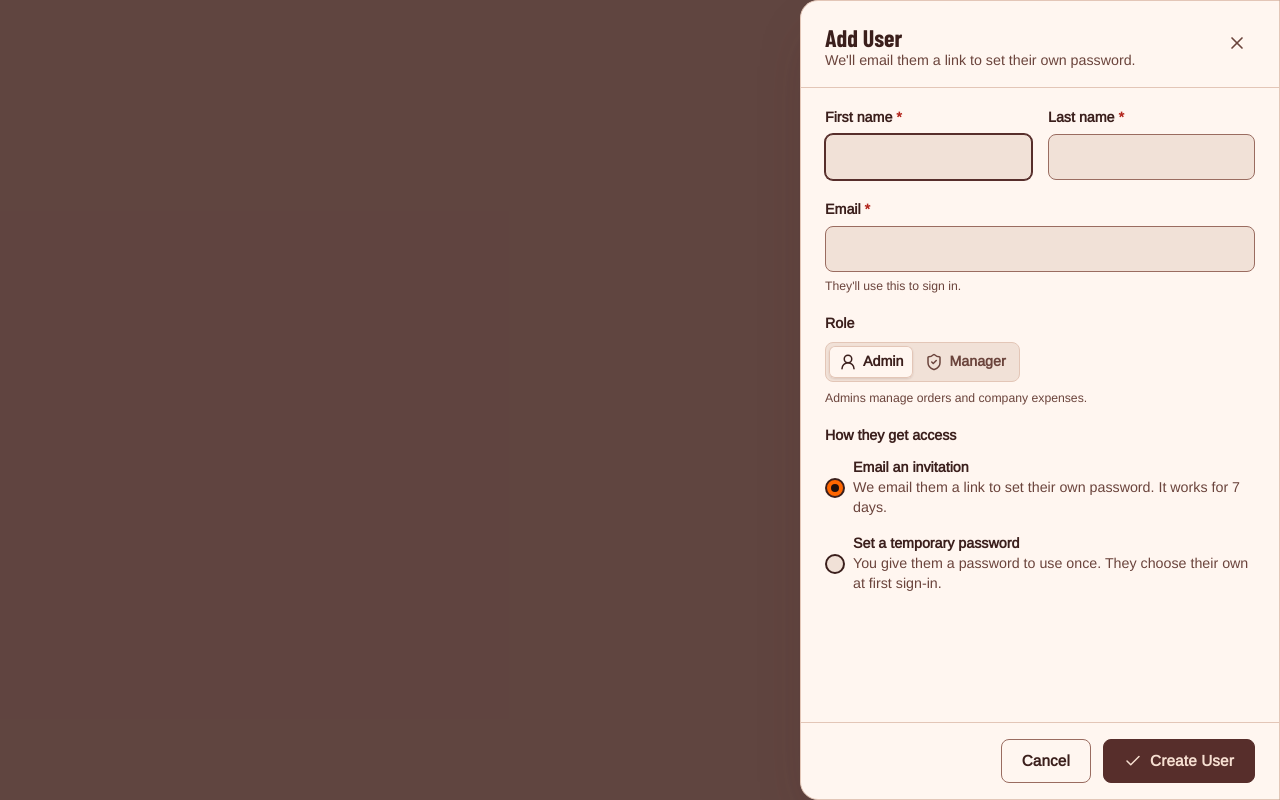
Scenario: U2 checks before sending (OR-3) › refuses an address that is not shaped like an email, before any request
Type "Ana" into the field labelled "First name *". click: (928, 157)
box: [826,135,1031,179]
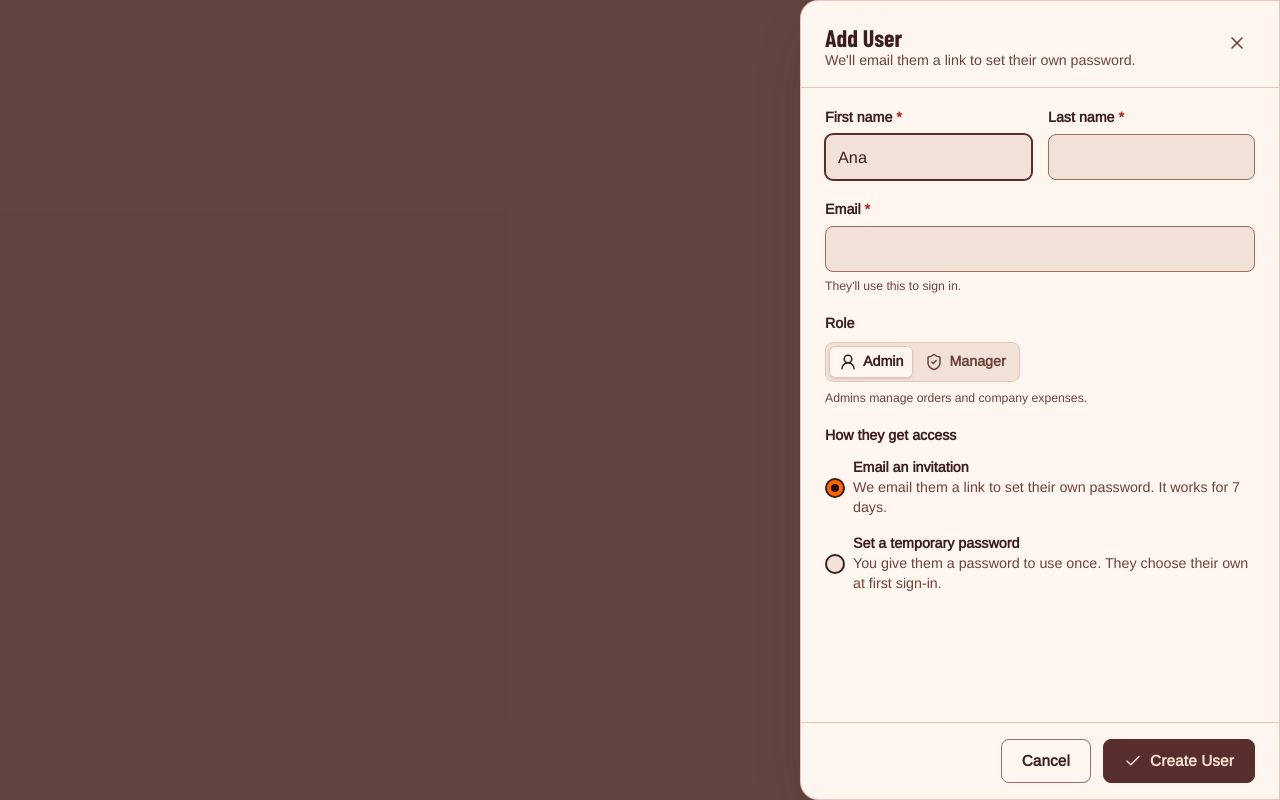
Type "Reyes" into the field labelled "Last name *". click: (1152, 157)
box: [1049,135,1254,179]
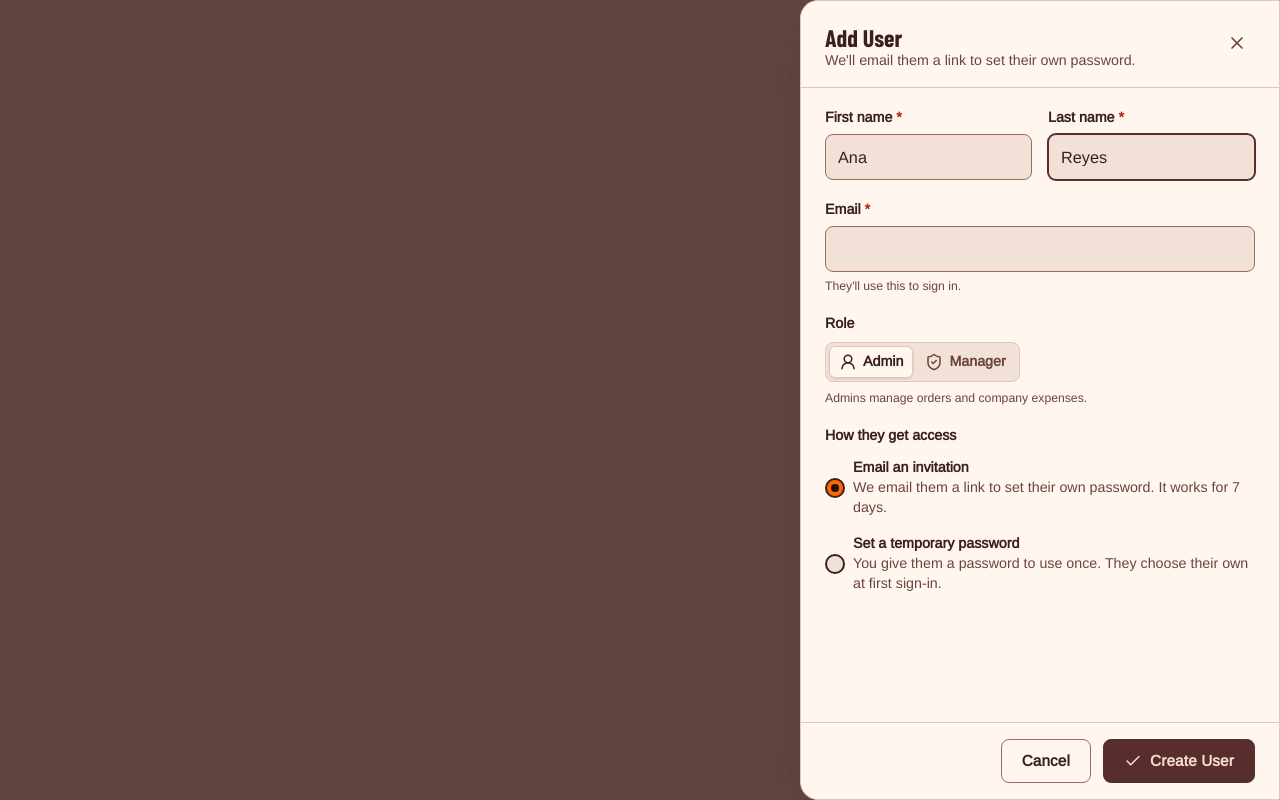
Type "ana-at-example" into the field labelled "Email *". click: (1040, 249)
box: [826,227,1254,271]
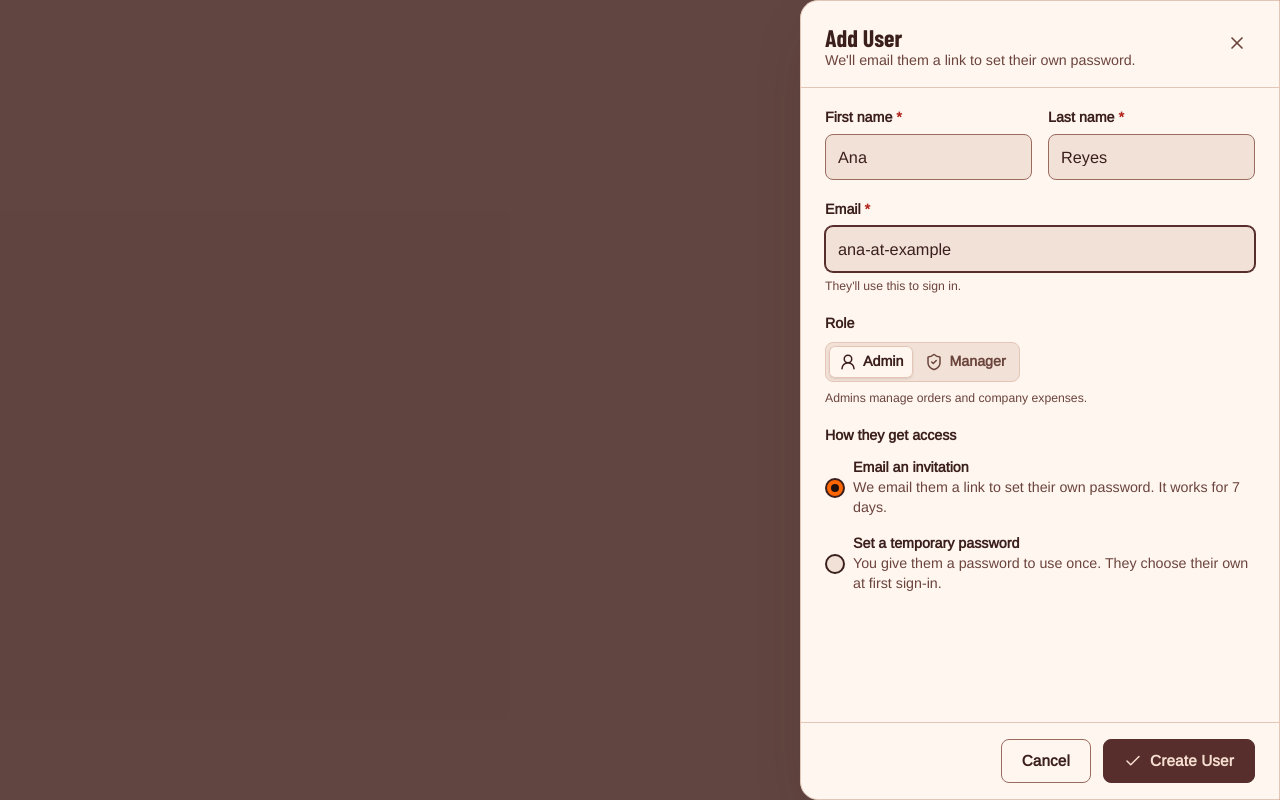
Click the button "Create User". click: click(1179, 761)
box: [1103,739,1255,783]
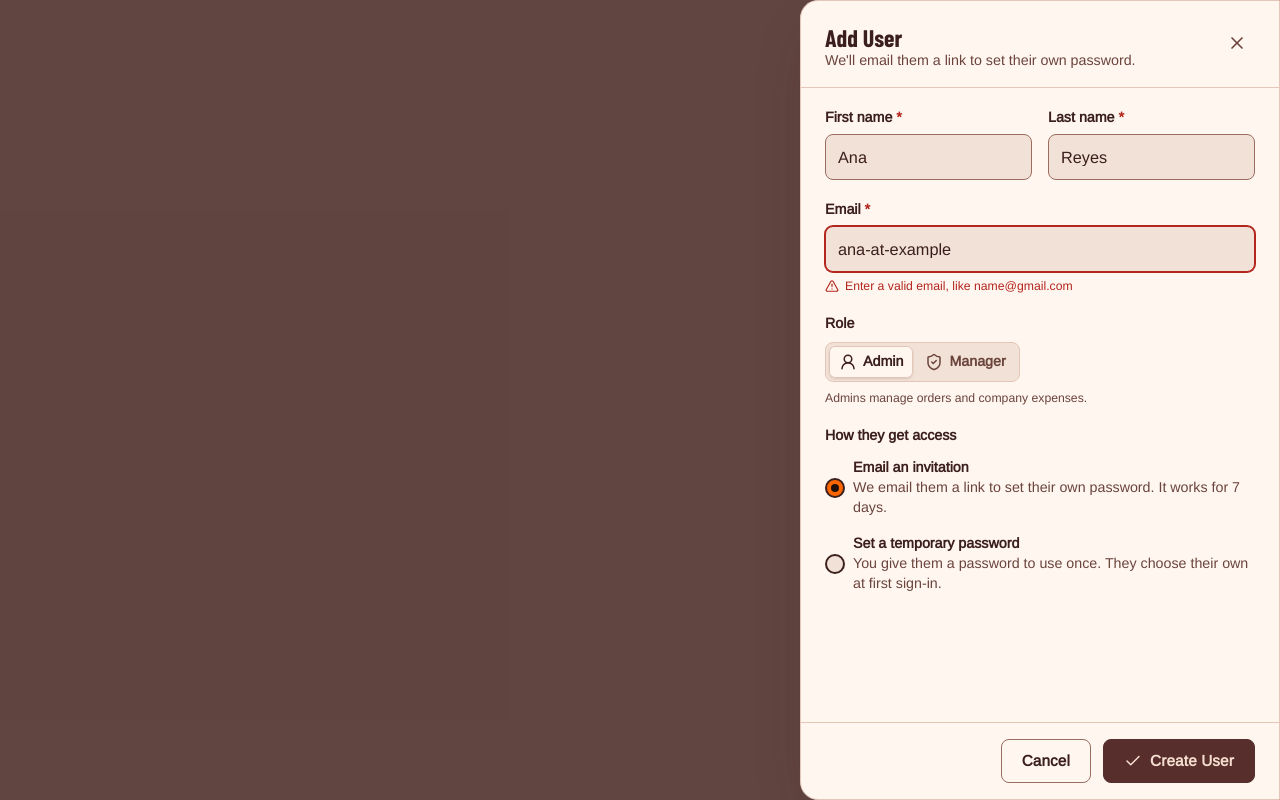
expect the text "Enter a valid email, like name@gmail.com" is shown: met, box [825,279,1073,293]
